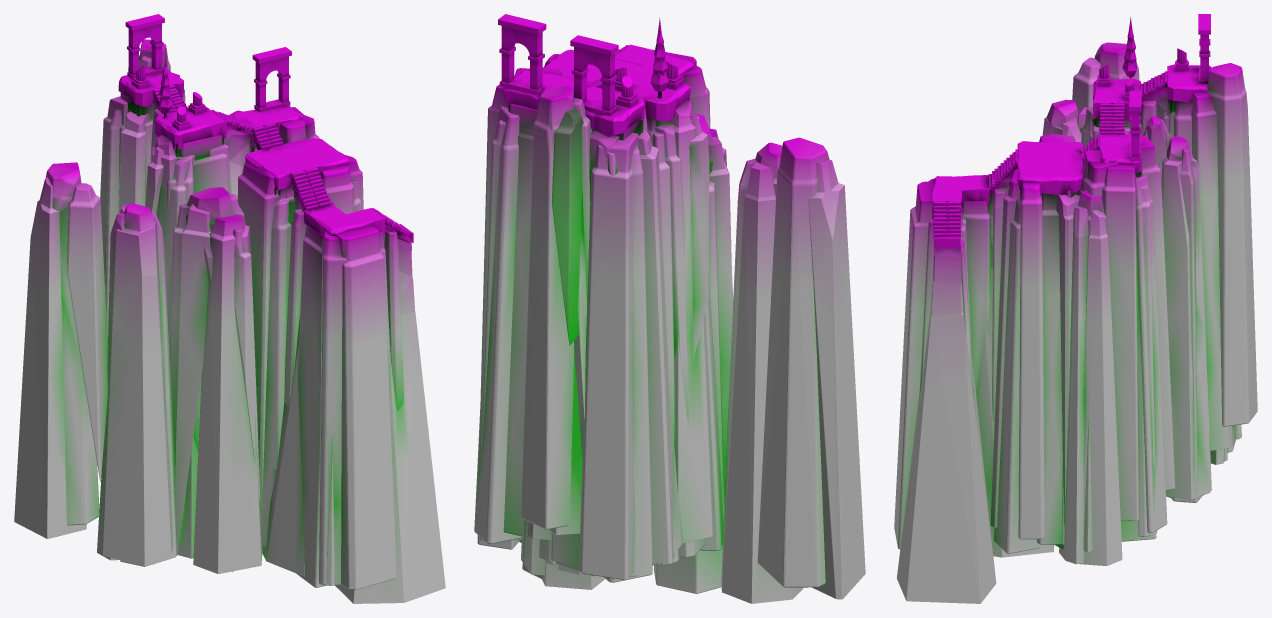
The model's file is level.glb.
3 views of the same model, side by side, from view 1: azimuth 30°, elevation 25°; view 2: azimuth 150°, elevation 25°; view 3: azimuth 270°, elevation 25° (orthographic). The views are drawn at different scales.
Visible parts, largest first — view 1: rock, marble; view 2: rock, marble, olive; view 3: rock, marble, olive.
Part boxes in pixels (x1=…): rock: x1=14, y1=39, x2=445, y2=603; marble: x1=118, y1=14, x2=413, y2=242; rock: x1=474, y1=49, x2=865, y2=603; marble: x1=498, y1=14, x2=694, y2=136; olive: x1=650, y1=18, x2=668, y2=91; rock: x1=894, y1=42, x2=1257, y2=603; marble: x1=931, y1=14, x2=1211, y2=248; olive: x1=1122, y1=17, x2=1137, y2=77.
Bounding box in the file's own units: 15.91 × 23.3 × 15.25.
